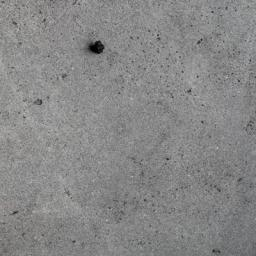FOD: (88, 39, 111, 56)
